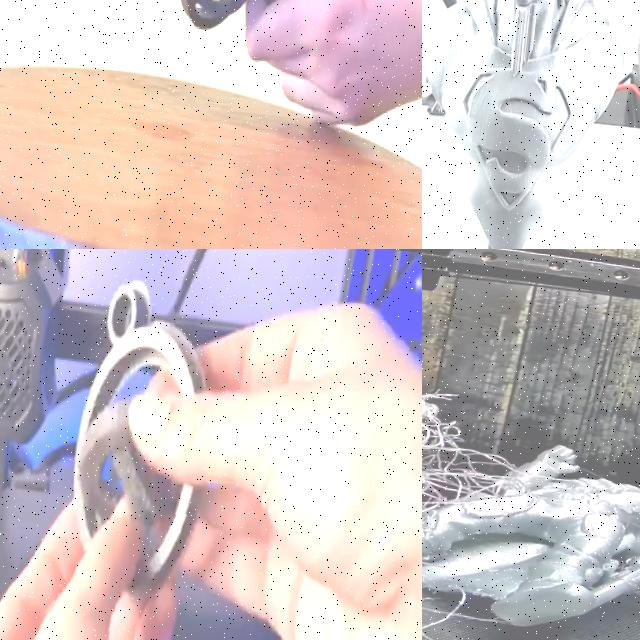spaghetti: (422, 291, 504, 584)
